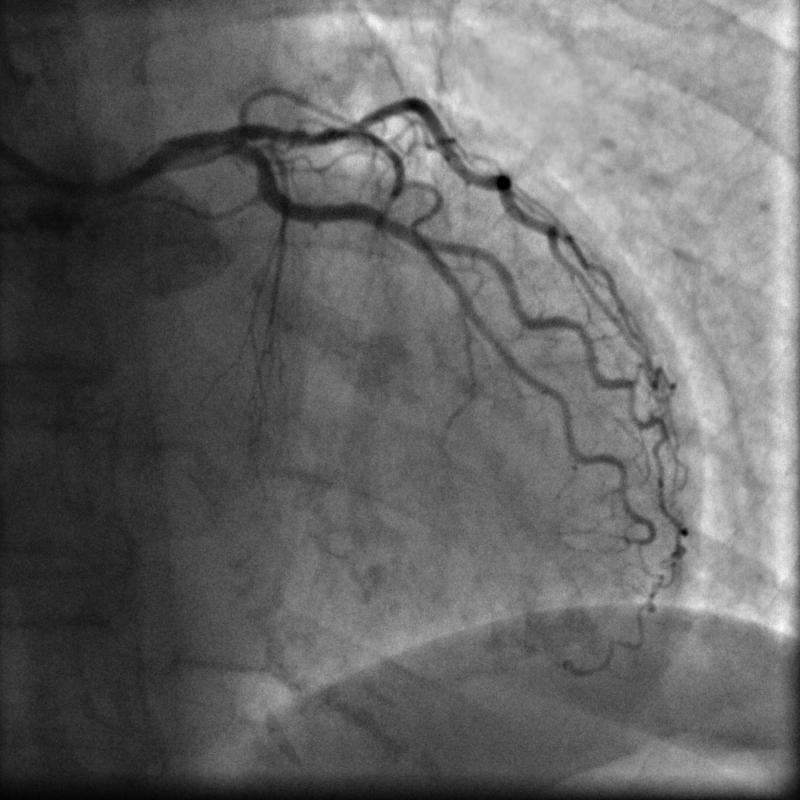Stenosis: (299, 127, 333, 146)
